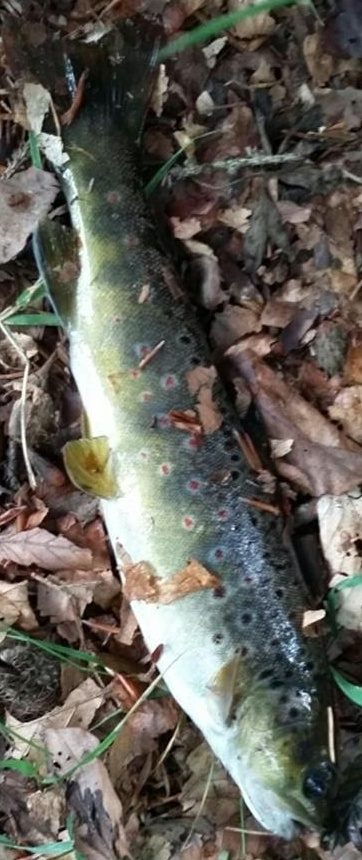Salmo trutta subsp. fario: (20, 20, 342, 840)
